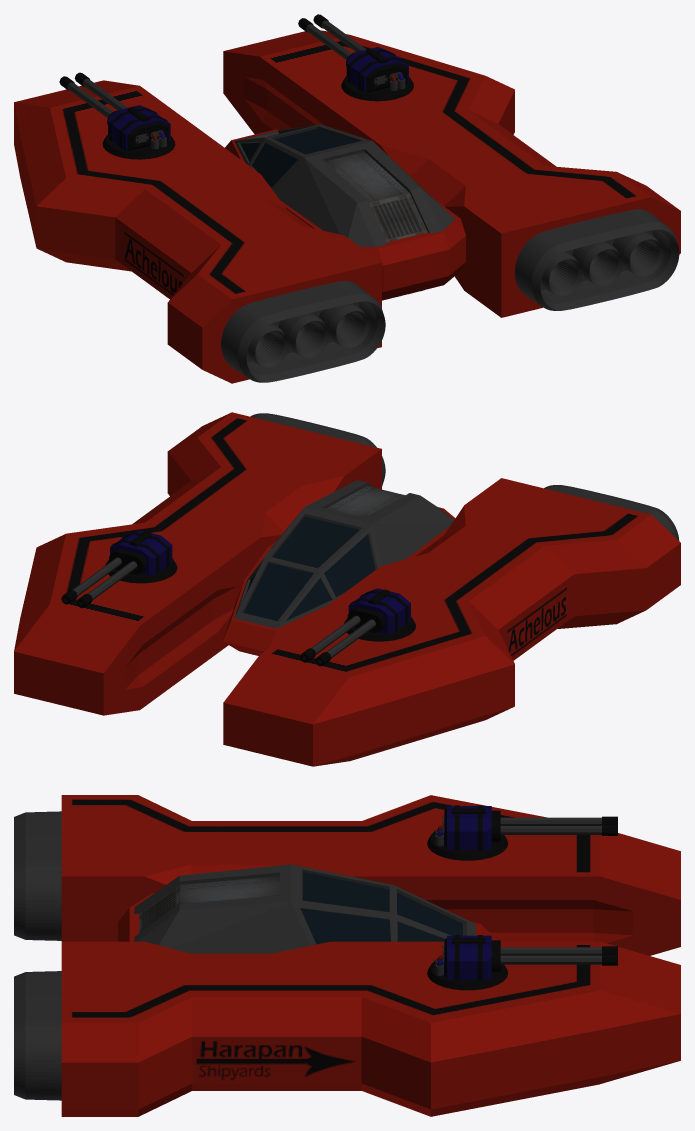
Rendered from Achelous.obj.
The picture shows the model from 3 angles, top to bottom: view 1: azimuth 30°, elevation 25°; view 2: azimuth 150°, elevation 25°; view 3: azimuth 270°, elevation 25°; orthographic projection. The views are drawn at different scales.
Visible parts, largest first — view 1: Wings, Engines, Ship, Autocannon_Left, Autocannon_Right, Windshield; view 2: Wings, Ship, Windshield, Autocannon_Right, Autocannon_Left, Engines; view 3: Wings, Ship, Engines, Windshield, Autocannon_Right, Autocannon_Left.
Part boxes in pixels (x1,y1,x2,y2): Wings: [14, 30, 680, 383]; Engines: [221, 209, 679, 382]; Ship: [225, 124, 465, 300]; Autocannon_Left: [59, 72, 175, 159]; Autocannon_Right: [298, 14, 413, 101]; Windshield: [240, 129, 357, 187]; Wings: [14, 412, 680, 766]; Ship: [223, 480, 455, 655]; Windshield: [243, 516, 375, 620]; Autocannon_Right: [61, 530, 177, 608]; Autocannon_Left: [300, 588, 415, 666]; Engines: [250, 413, 679, 540]; Wings: [61, 795, 680, 1116]; Ship: [118, 864, 497, 953]; Engines: [14, 811, 61, 1100]; Windshield: [300, 872, 462, 944]; Autocannon_Right: [427, 935, 617, 990]; Autocannon_Left: [427, 805, 617, 860].
Bounding box in the file's own units: 8 × 1.84 × 8.67.
Materials: 3 (2 with a texture image).
